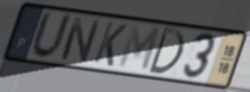3: (181, 32, 218, 81)
D: (146, 26, 186, 77)
K: (91, 20, 129, 69)
M: (116, 23, 162, 74)
N: (58, 16, 102, 65)
U: (29, 9, 74, 63)
